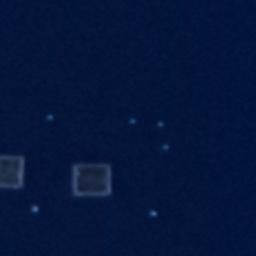square_cover: (66, 157, 117, 201), (1, 149, 30, 193)
